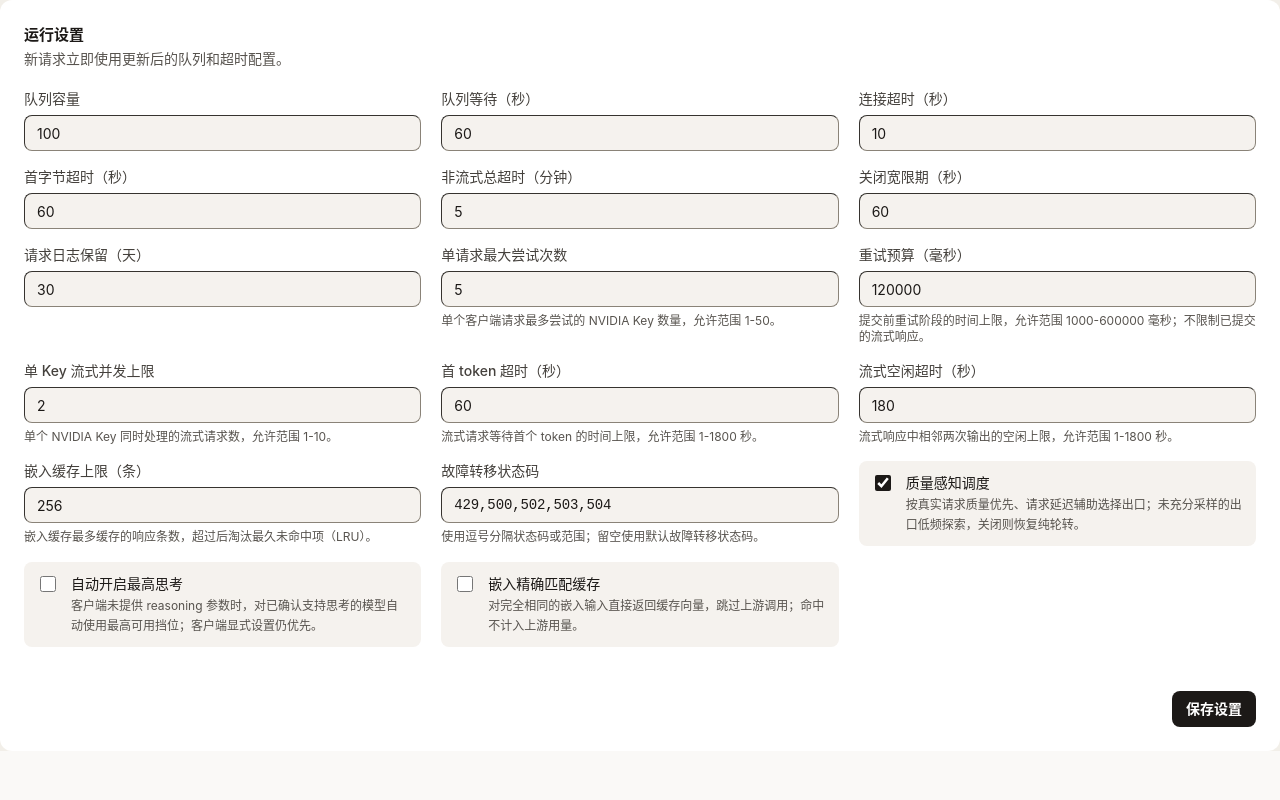
Test: SettingsForm › rejects an empty numeric input instead of converting it to zero
Clear the number field with test id "queue-capacity": [223, 133] box [24,115,421,151]
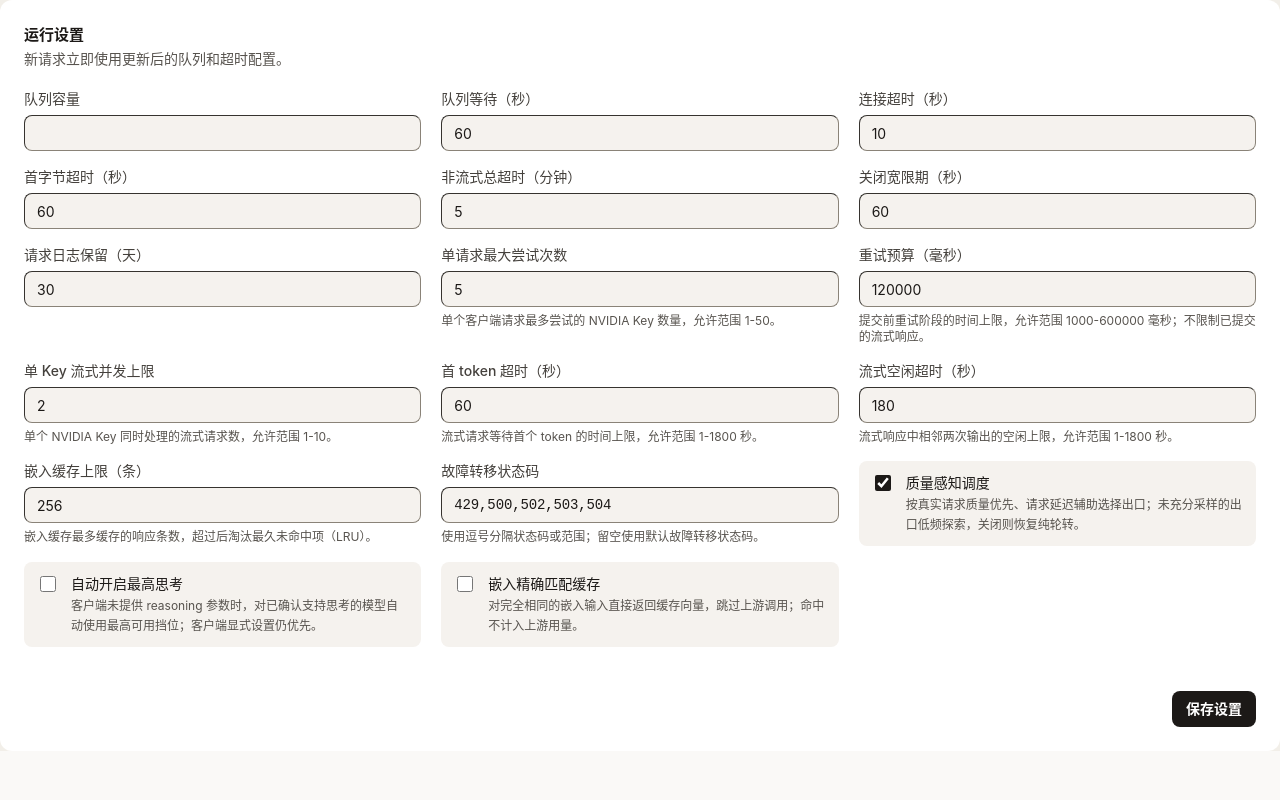
Submit the form with test id "runtime-settings-form"
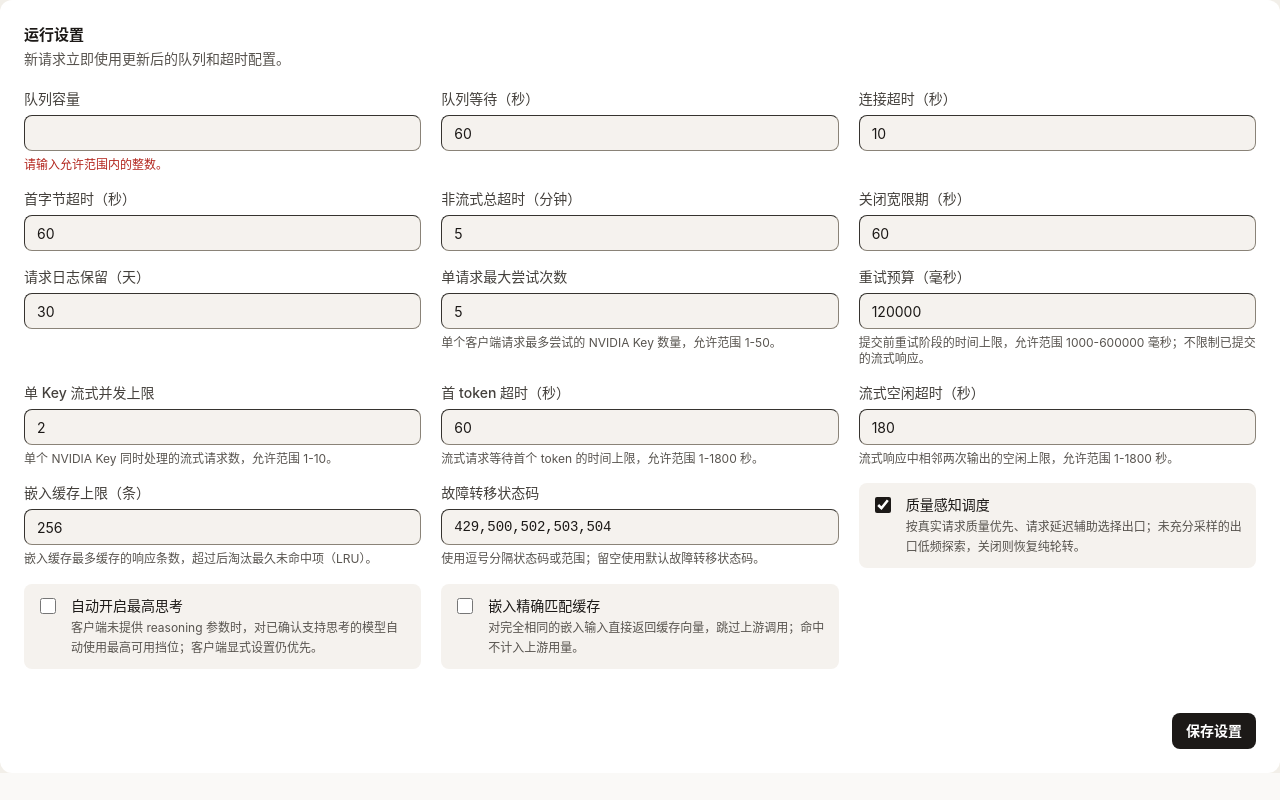
Now the message with test id "error-queue_capacity" shows "请输入", box [24,157,168,172]
